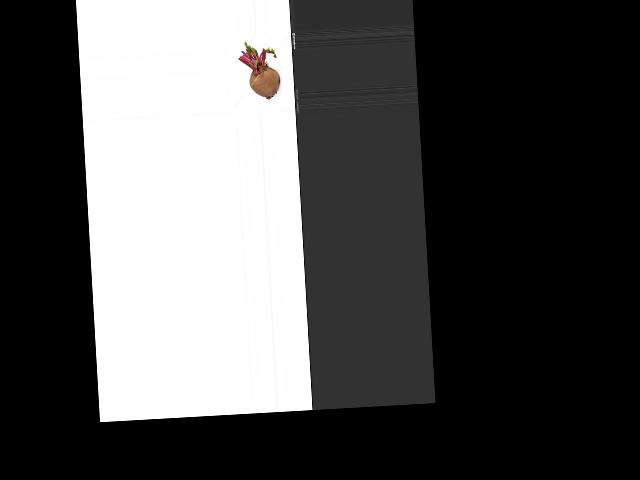beet: (237, 40, 281, 101)
